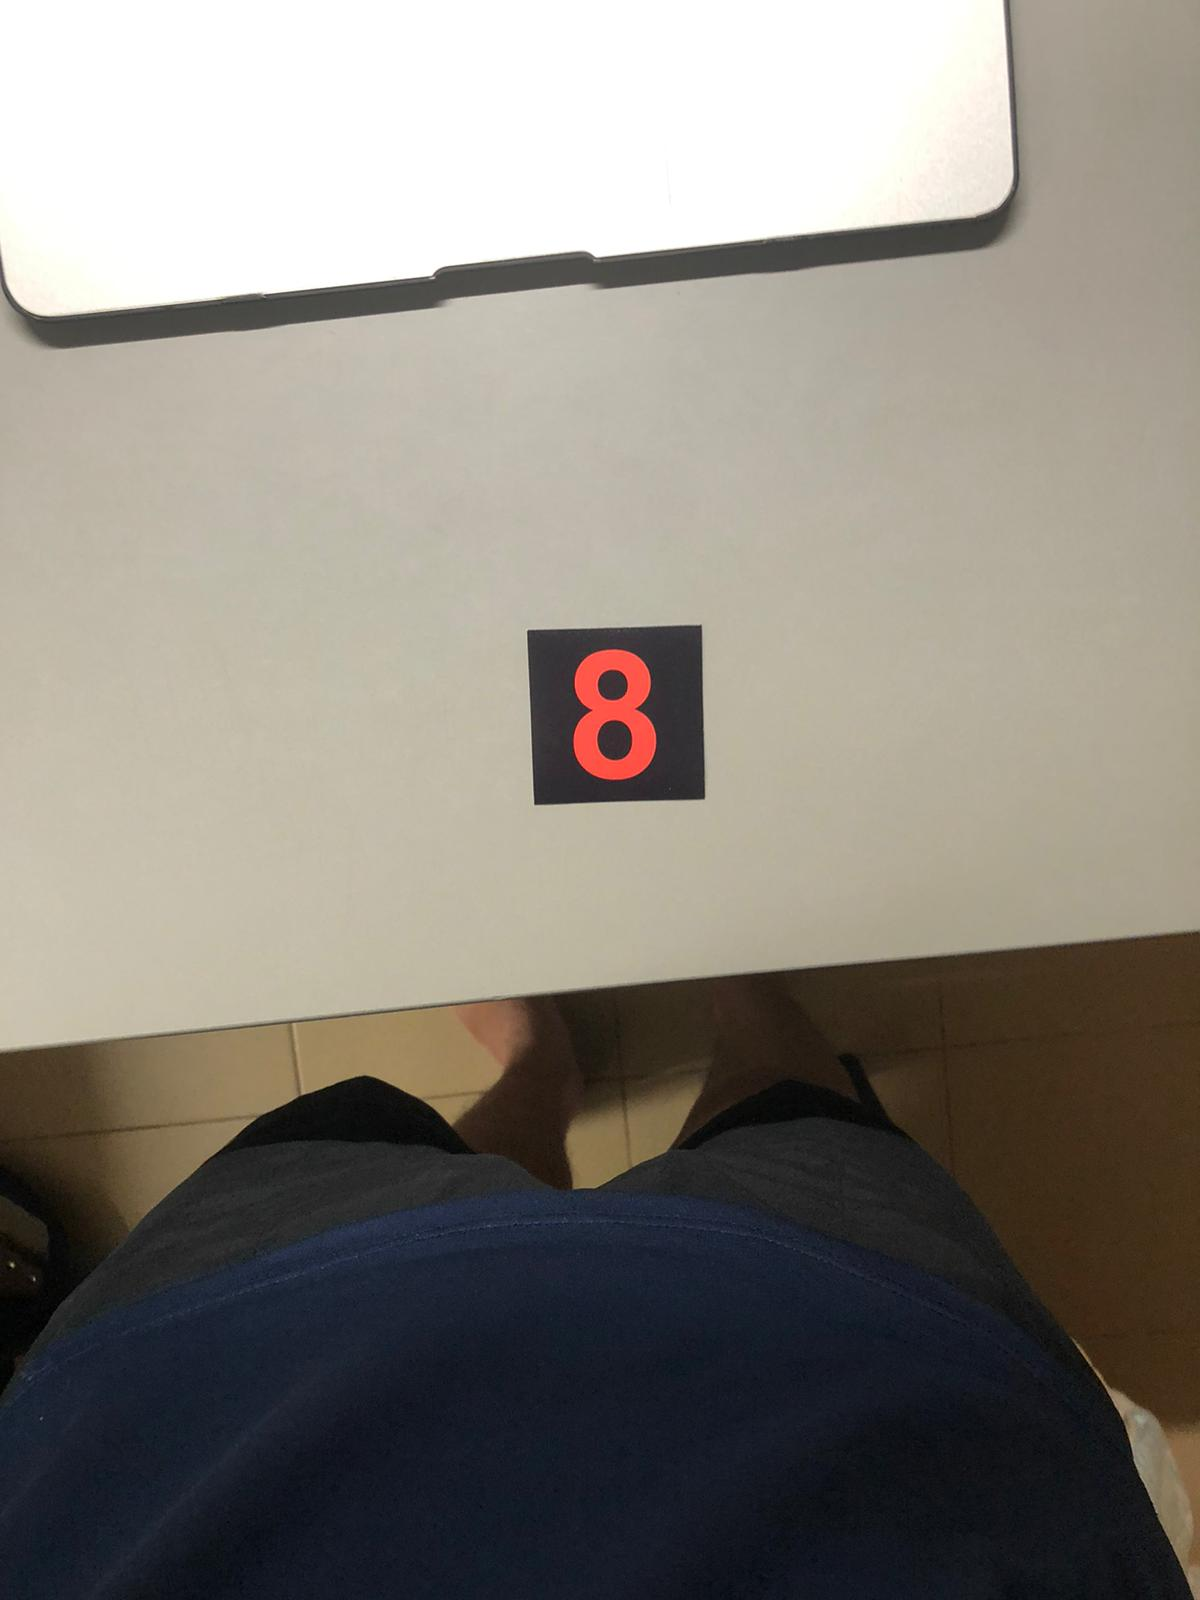Number 8: (539, 629, 697, 805)
